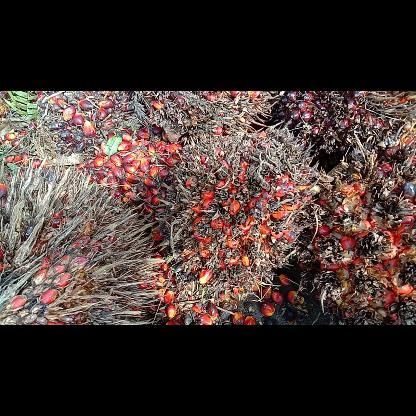Terlalu masak: (154, 123, 334, 297), (0, 158, 185, 324), (309, 140, 415, 324)
